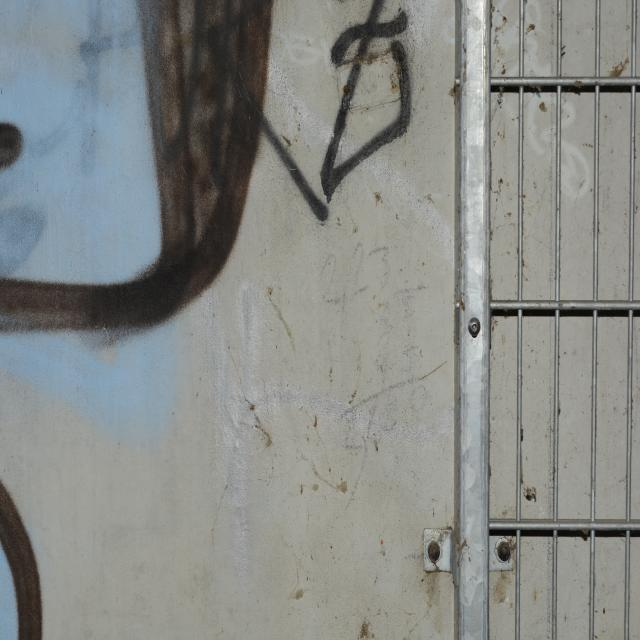corrosion: (426, 539, 442, 562), (496, 540, 512, 562)
